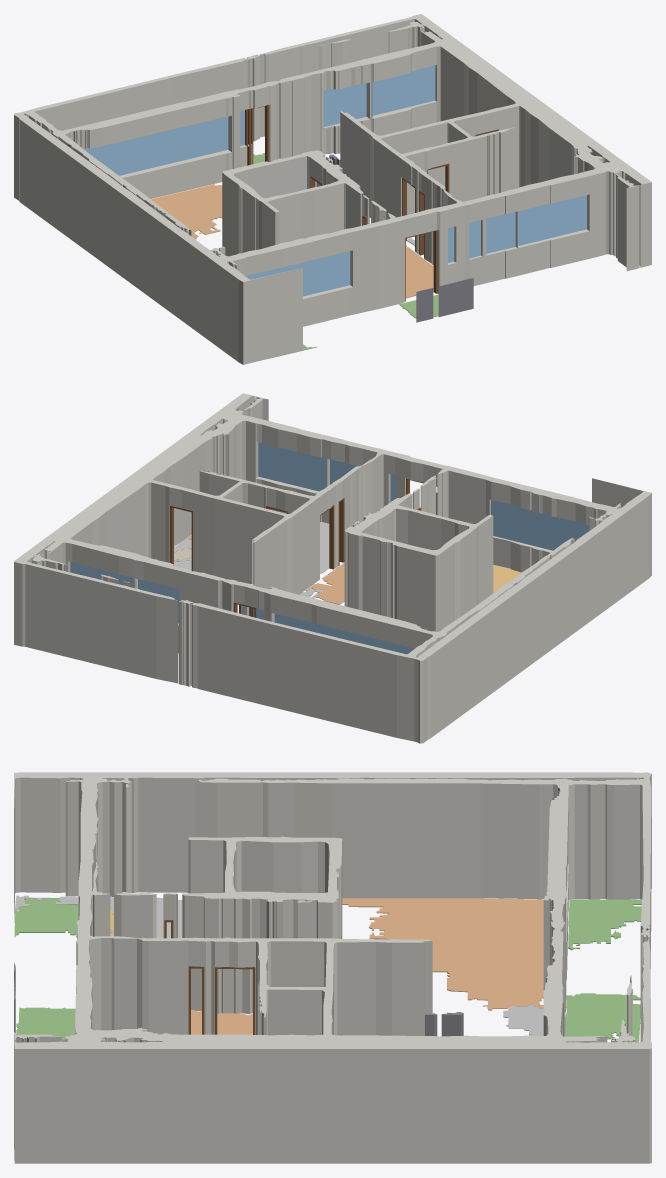
3 renders of one model, top to bottom at view 1: azimuth 30°, elevation 25°; view 2: azimuth 150°, elevation 25°; view 3: azimuth 270°, elevation 25°, orthographic. The views are drawn at different scales.
Visible parts, largest first — view 1: walls, window_9, window_16, floor_13_Living_Room, window_12, window_13, railings, window_11, window_15, floor_8_Living_Room; view 2: walls, window_13, window_16, window_9, floor_8_Living_Room, window_12; view 3: walls, floor_13_Living_Room, floor_3_Outdoor, floor_4_Outdoor, floor_1_Outdoor, floor_0_Outdoor, floor_8_Living_Room, railings, floor_30_Undefined, floor_22_Undefined.
Boxes of the visible parts, left/top/right/bottom form: walls: left=14, top=14, right=651, bottom=364; window_9: left=83, top=116, right=228, bottom=175; window_16: left=518, top=195, right=586, bottom=245; floor_13_Living_Room: left=151, top=184, right=222, bottom=239; window_12: left=372, top=65, right=435, bottom=115; window_13: left=245, top=251, right=350, bottom=296; railings: left=329, top=154, right=473, bottom=322; window_11: left=323, top=83, right=366, bottom=126; window_15: left=486, top=212, right=515, bottom=253; floor_8_Living_Room: left=406, top=245, right=433, bottom=298; walls: left=14, top=393, right=651, bottom=743; window_13: left=491, top=500, right=588, bottom=550; window_16: left=258, top=442, right=326, bottom=491; window_9: left=274, top=614, right=414, bottom=654; floor_8_Living_Room: left=305, top=562, right=344, bottom=604; window_12: left=70, top=562, right=133, bottom=587; walls: left=14, top=772, right=651, bottom=1163; floor_13_Living_Room: left=342, top=898, right=543, bottom=1010; floor_3_Outdoor: left=565, top=993, right=640, bottom=1042; floor_4_Outdoor: left=568, top=899, right=642, bottom=950; floor_1_Outdoor: left=14, top=898, right=78, bottom=937; floor_0_Outdoor: left=16, top=1007, right=75, bottom=1041; floor_8_Living_Room: left=191, top=1011, right=252, bottom=1034; railings: left=14, top=962, right=563, bottom=1036; floor_30_Undefined: left=503, top=1004, right=543, bottom=1035; floor_22_Undefined: left=110, top=897, right=182, bottom=938.
Bounding box in the file's own units: 13.98 × 2.72 × 13.61.
